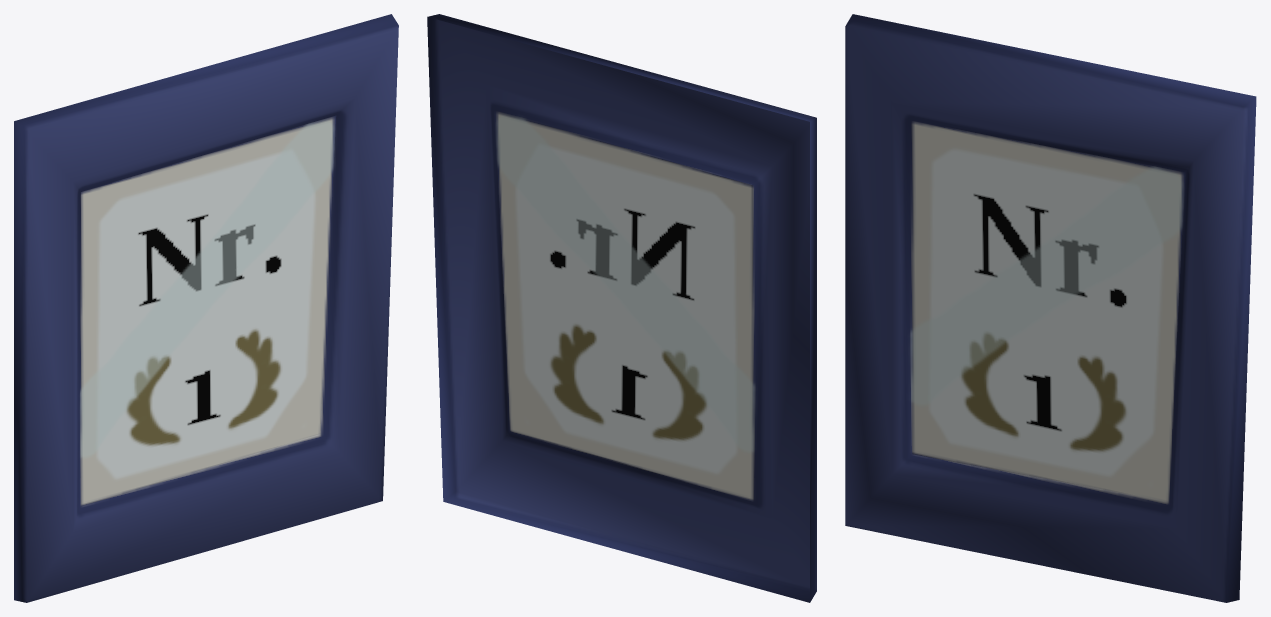
Rendered from TherapyPicture.fbx.
The picture shows the model from 3 angles, left to right: view 1: azimuth 30°, elevation 25°; view 2: azimuth 150°, elevation 25°; view 3: azimuth 330°, elevation 25°; orthographic projection. The views are drawn at different scales.
Parts seen in each view (by area): view 1: polySurface35; view 2: polySurface35; view 3: polySurface35.
Part boxes in pixels (x1,y1,x2,y2): polySurface35: (14, 14, 398, 602); polySurface35: (427, 14, 816, 602); polySurface35: (845, 14, 1256, 602).
Size of the model in its own units: 188 by 233 by 10.86.
